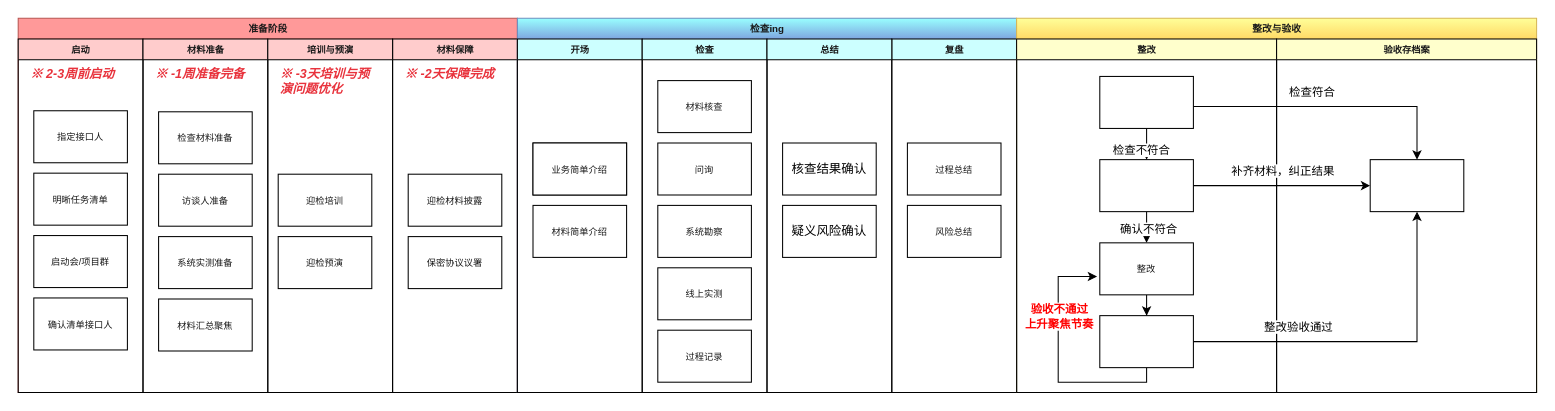
This 1555x411 diagram has some shape labels left out. The shapes that lost their labels are listed below. From the top down, each one's centre as x and y in pixels, then its label:
At point (1146, 101): "核查结果".
At point (1146, 185): "与GA协商确认".
At point (1416, 185): "验收通过并存档".
At point (1146, 341): "确认方案、责任人、验收标准".
